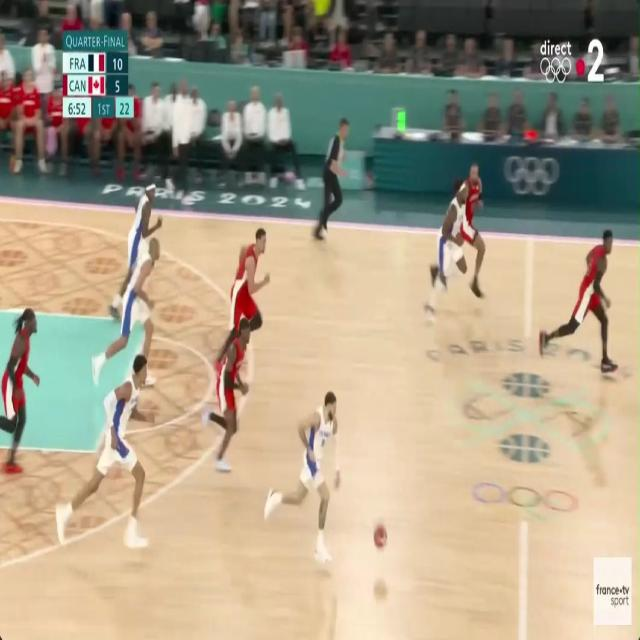ball_handler: (294, 392, 386, 572)
